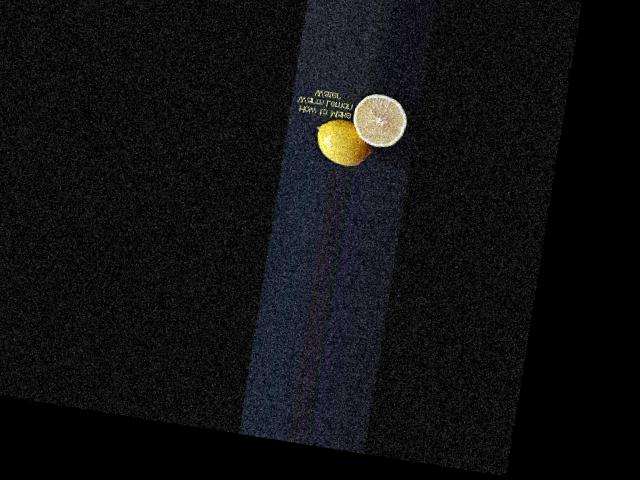lemon: (309, 119, 374, 170)
